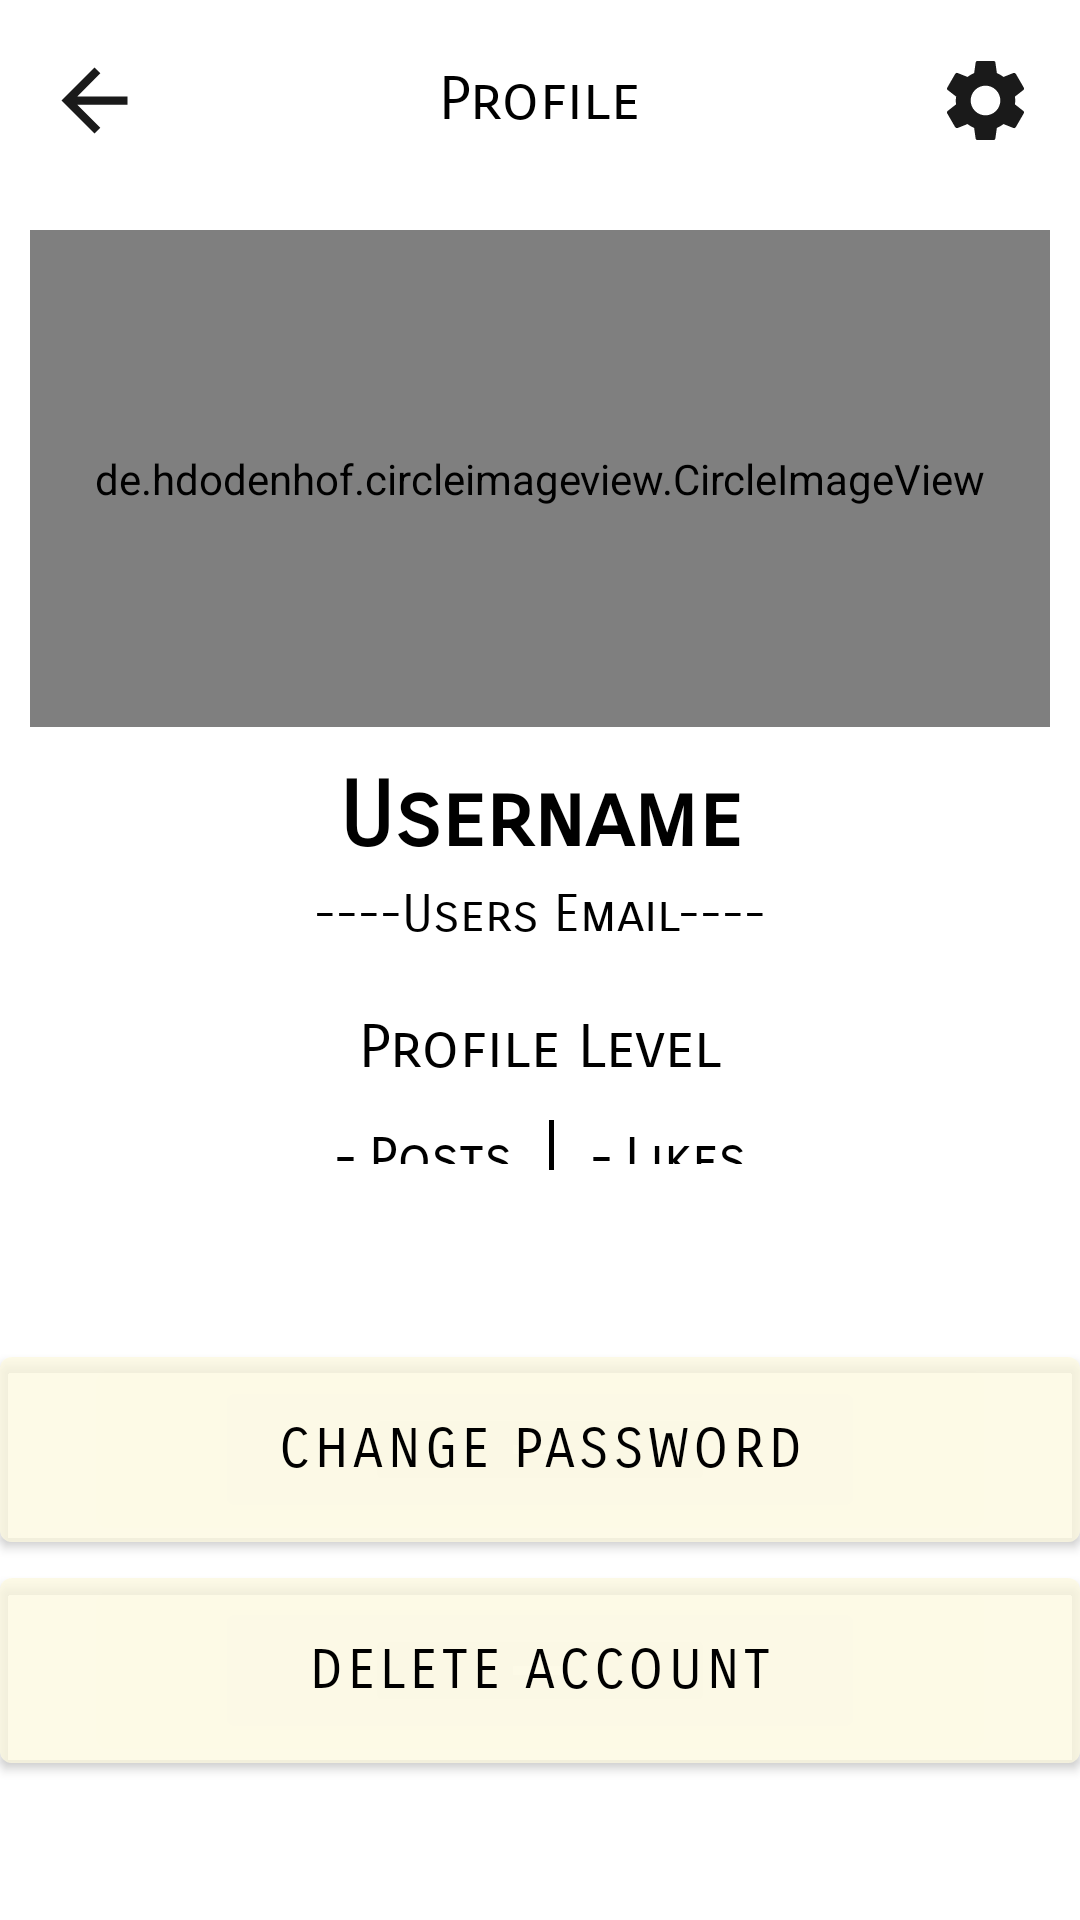

Screen size 1080×1920. Icon name, then its box in pixels as bbox(x1, y1, x2, y2):
arrow back: bbox(61, 67, 128, 134)
settings: bbox(947, 61, 1024, 140)
